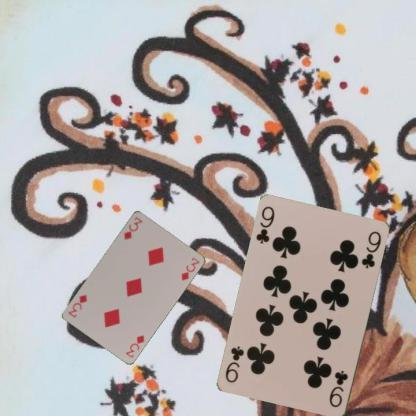3d: (121, 214, 144, 241), (124, 332, 146, 359)
9c: (326, 368, 350, 409), (254, 204, 276, 246)
